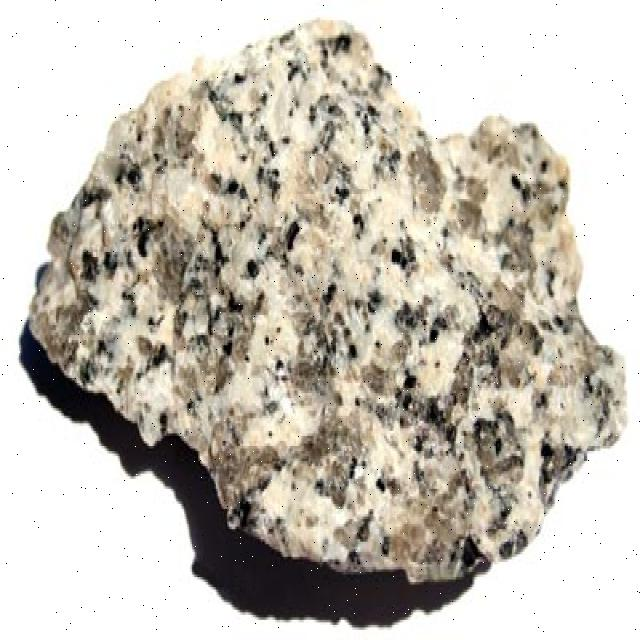Igneous: (29, 18, 630, 614)
